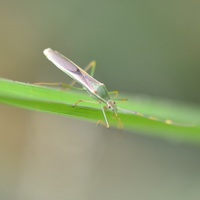insect: (43, 48, 191, 126)
